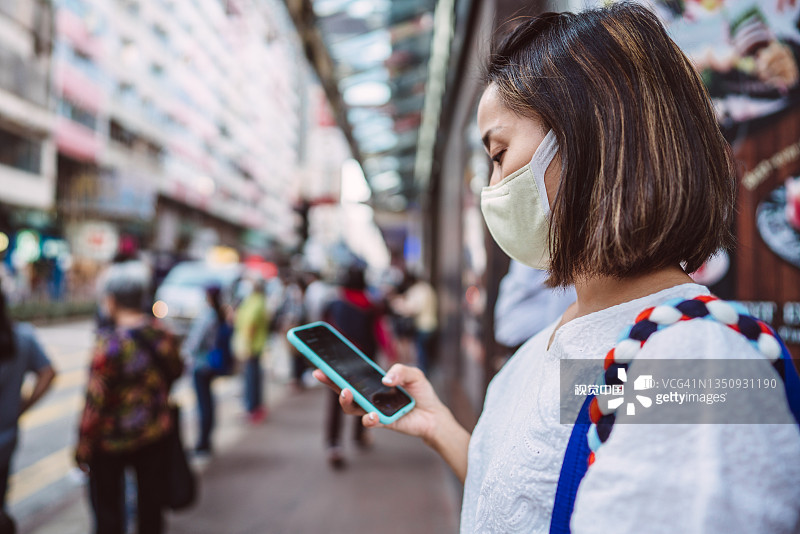reading: (270, 310, 463, 456)
